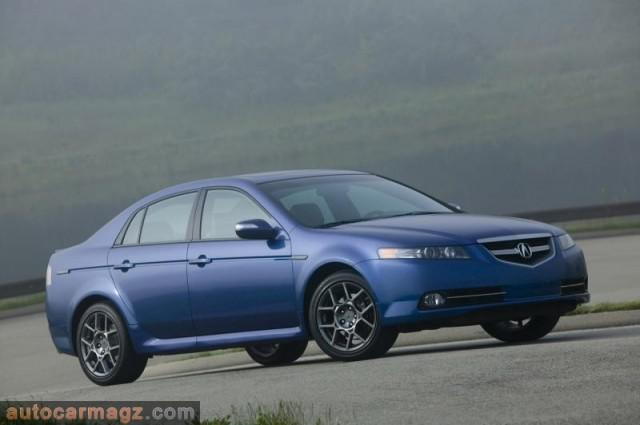Car: (29, 146, 610, 403)
